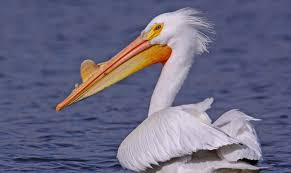pelican: (54, 6, 263, 173)
